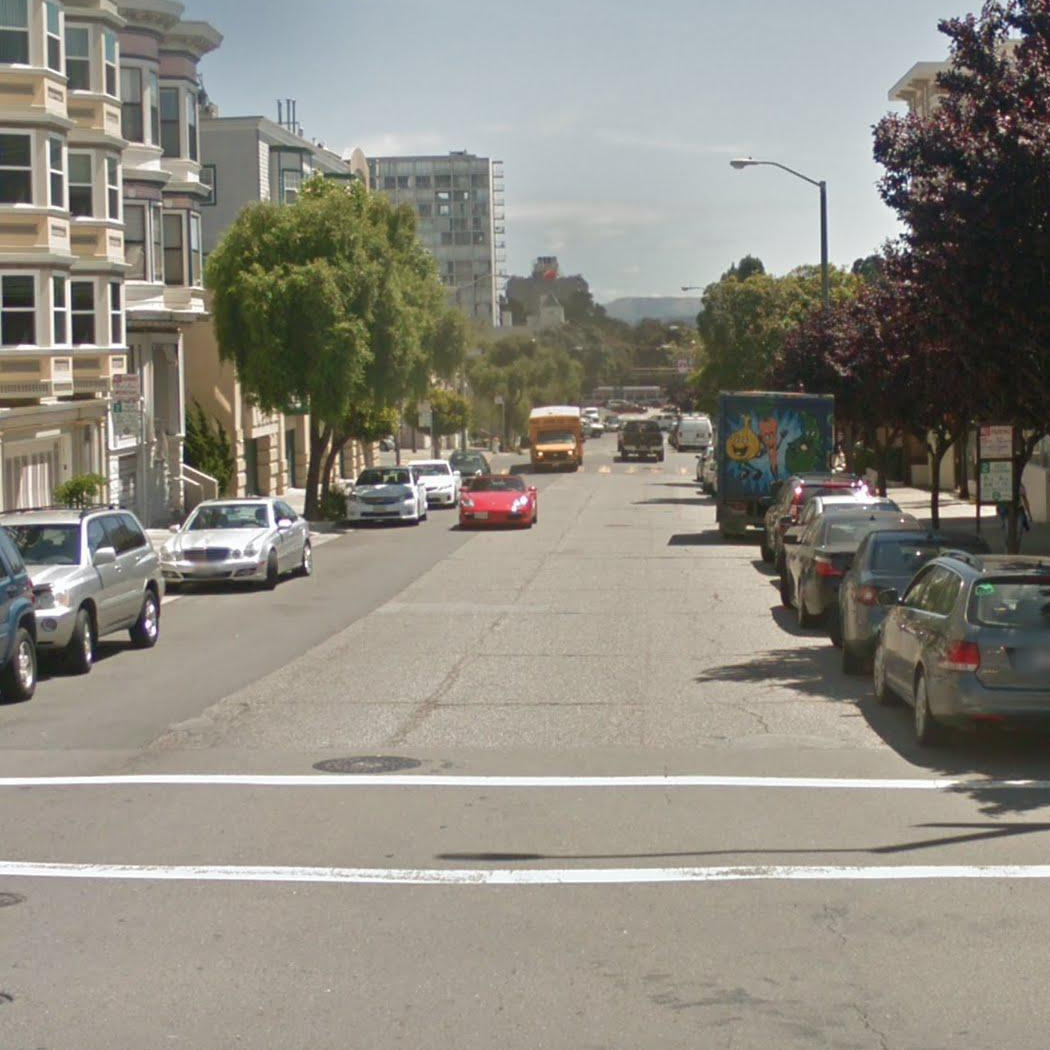2 Hour Parking: (977, 461, 1015, 503), (112, 401, 142, 437)
No Parking: (976, 423, 1015, 460), (110, 372, 141, 402)
